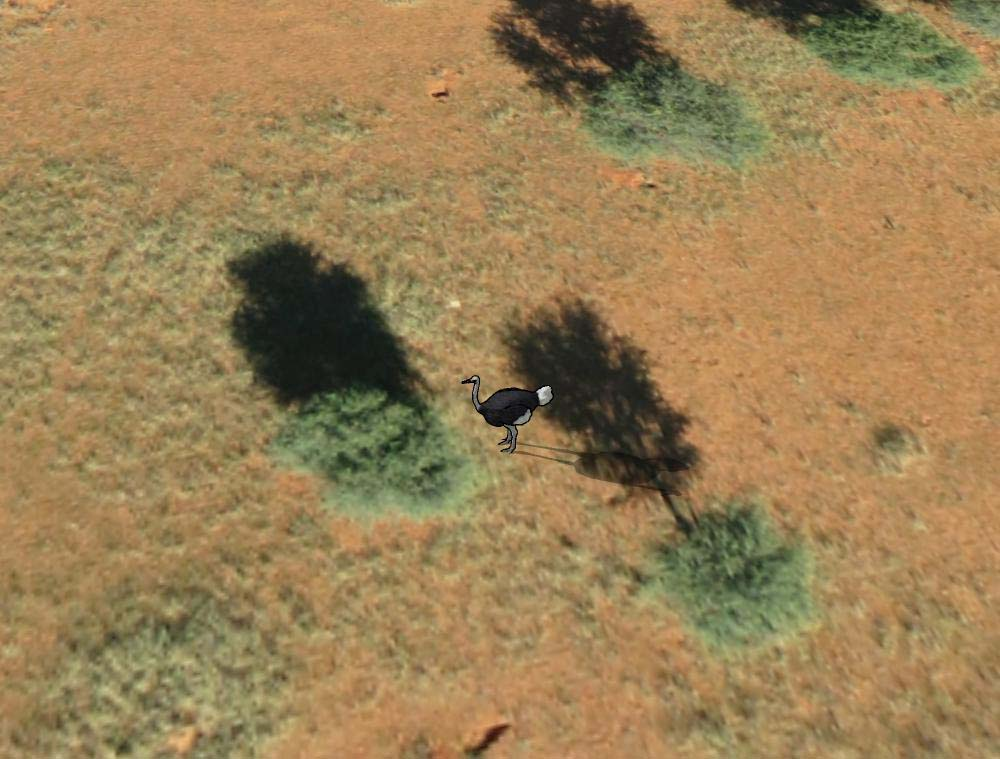springbok: (453, 370, 555, 457)
